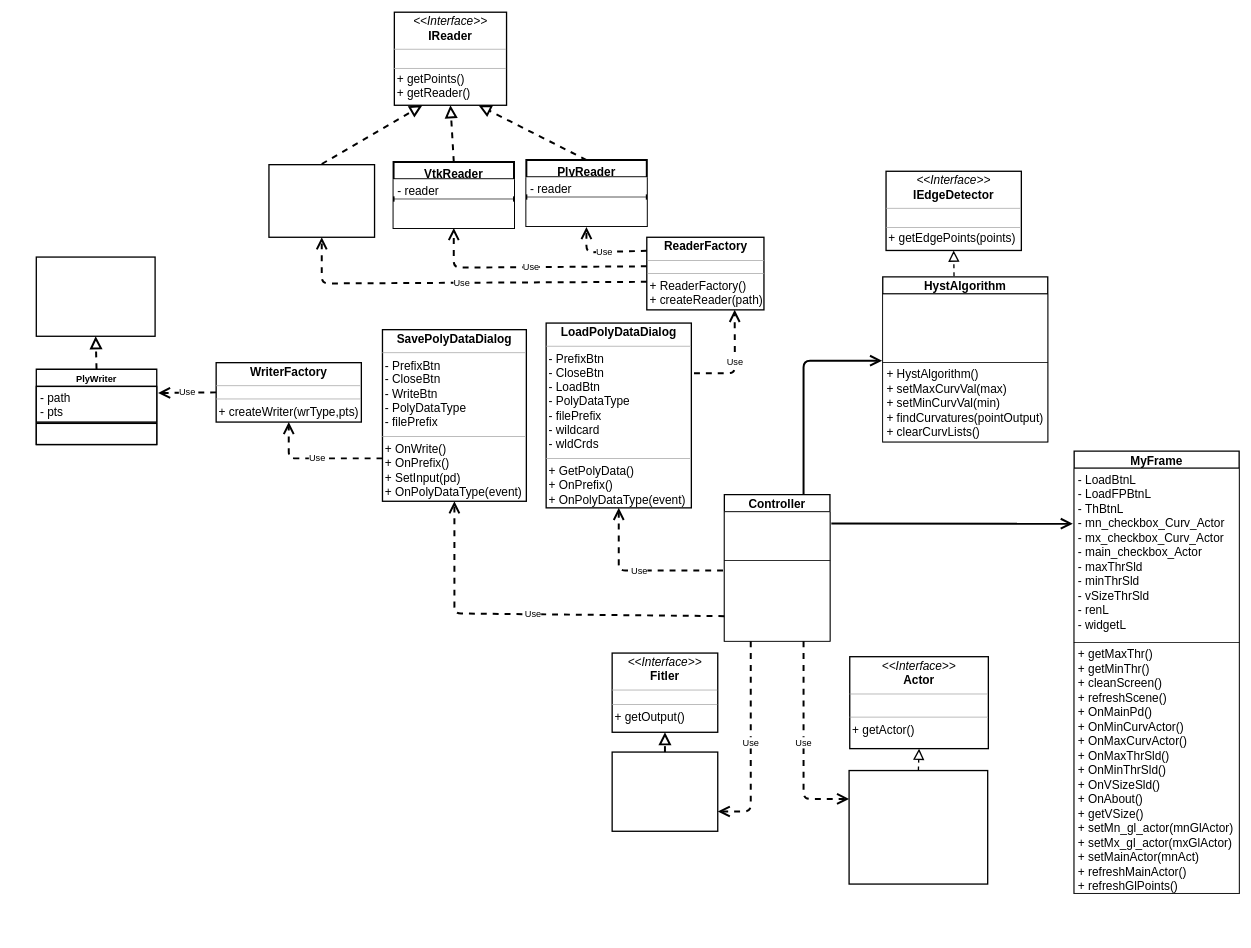
Image size: 1251x948. Some labels were removed from this diagram. Here are the shapes that lost their labels. From the top down, the centre of each, then its label:
At [321,201]: "ObjReader - reader + ObjReader(path)".
At [453,214]: "+ VtkReader(path)".
At [586,212]: "+ PlyReader(path)".
At [95,296]: "<<Interface>> IWriter - writePoints(path)".
At [965,328]: "- maxCurvVal - minCurvVal - max_curv_list - min_curv_list".
At [96,433]: "+ plyWriter(path)".
At [777,536]: "- frame - algo - freatureLines".
At [777,600]: "+ controller() + OnLoad(event) + OnLoadFP(evt) + OnThr(evt) + OnSave(event)".
At [664,791]: "vertexFilter - pts + vertexFilet(pts)".
At [918,827]: "GlyphActor - polyData - opacity - rgbColor - sphereSize + setSphereSize(size)".
